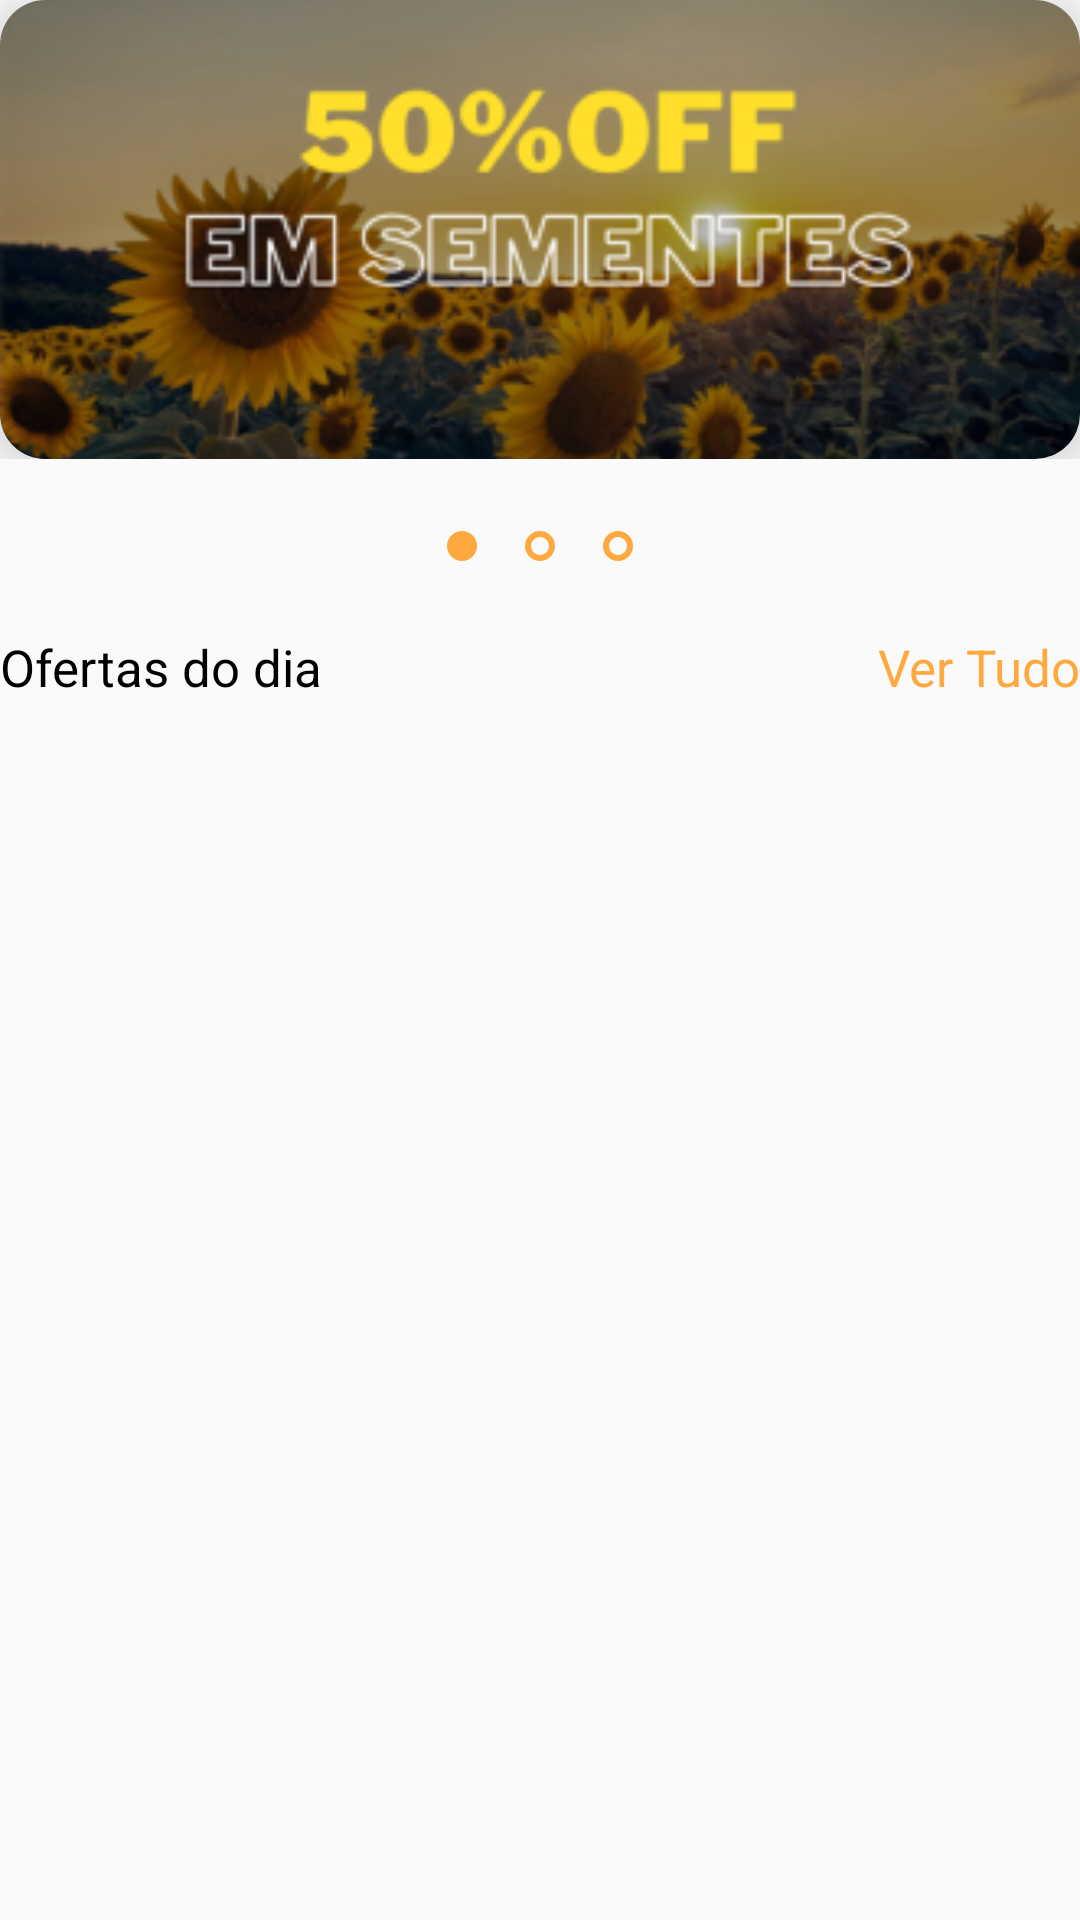

Where to tap for icons on this 1080×1920 app screen, as [x,y]:
Indicator 1: [462,546]
Indicator 2: [540,546]
Indicator 3: [618,546]
